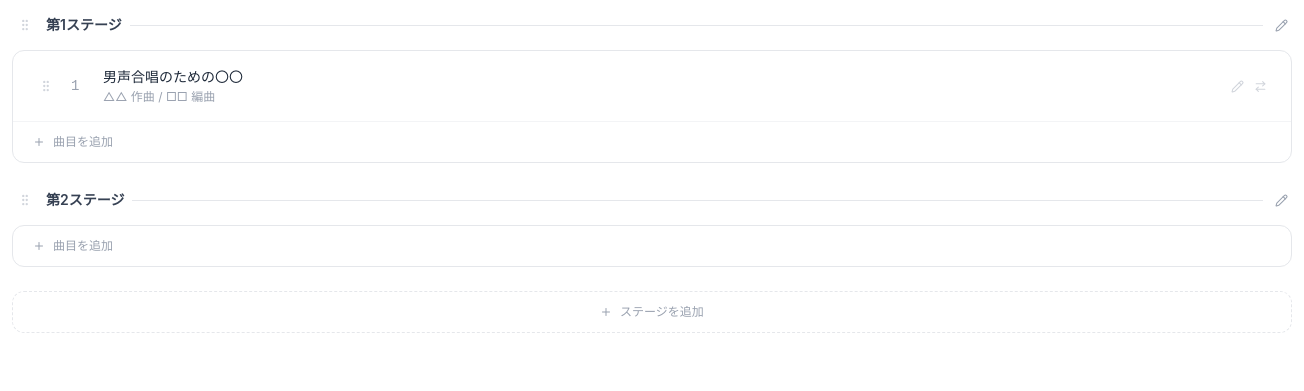
Test case: StagesTab（ステージ名インライン編集） › 空にして保存すると理由を出し、保存しない
Click the button named "第1ステージの名前を編集": (1282, 25) [1271,14,1292,36]
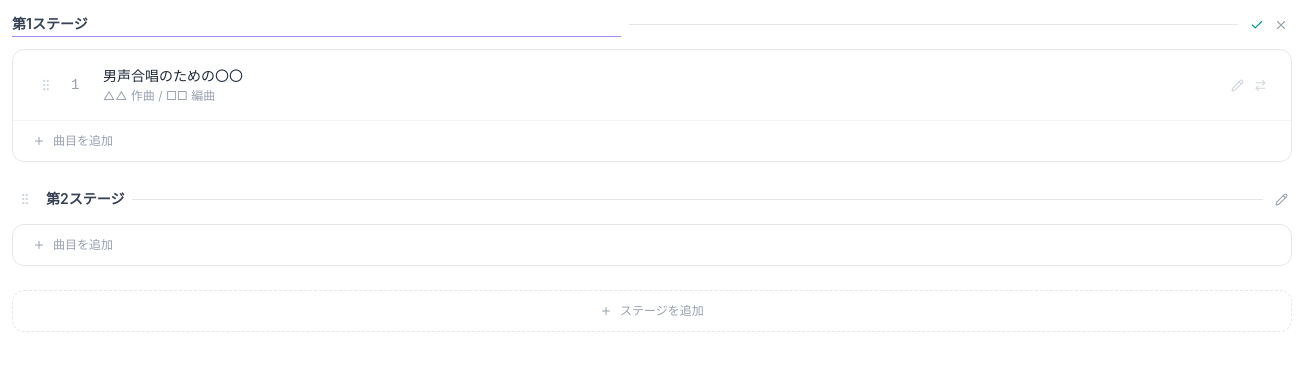
Clear the field named "ステージ名": (316, 24) [12,12,621,37]
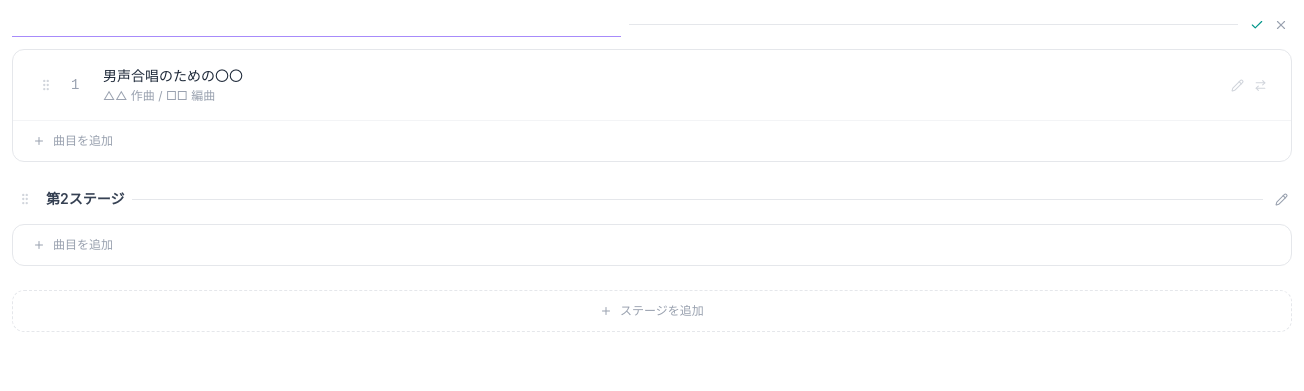
Click the button named "ステージ名を保存": (1257, 24) [1246,14,1268,36]
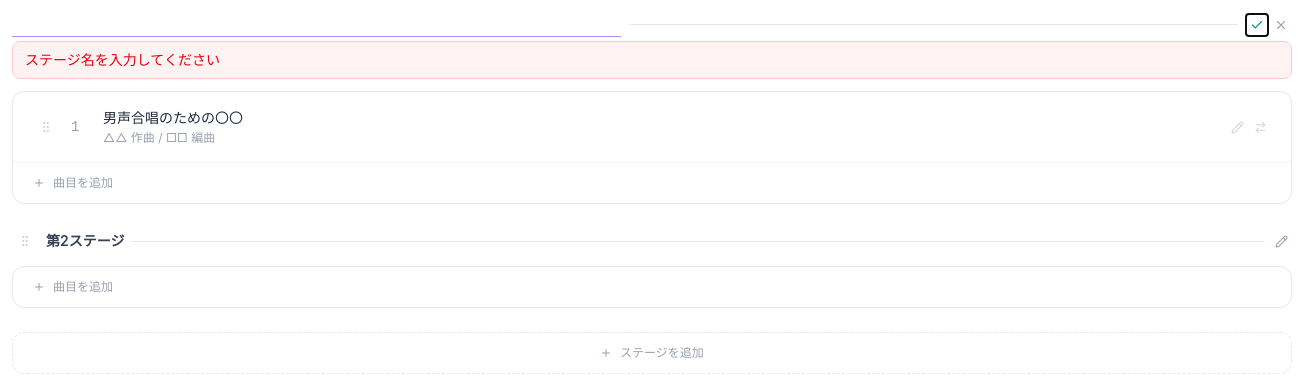
Expected: the message reads "ステージ名を入力してください", [25,51,220,68]
